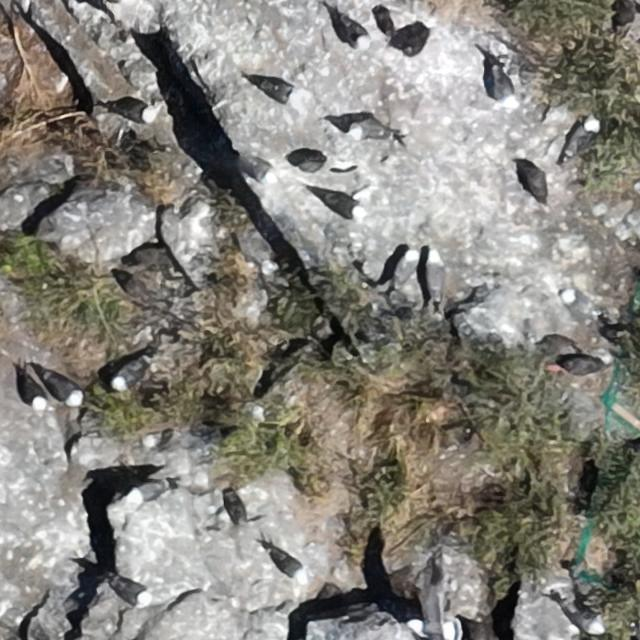F: (408, 576, 465, 640), (236, 154, 279, 184)
umineko: (316, 192, 361, 217), (45, 374, 82, 403), (566, 606, 604, 634), (126, 481, 168, 504), (567, 121, 595, 154), (113, 360, 145, 388), (270, 550, 302, 578), (113, 580, 149, 604), (111, 100, 154, 120), (337, 16, 366, 45), (522, 167, 547, 200), (256, 81, 295, 101), (427, 257, 445, 300), (140, 426, 178, 446), (394, 250, 416, 284), (24, 378, 46, 411), (493, 70, 513, 104), (354, 124, 388, 140)
